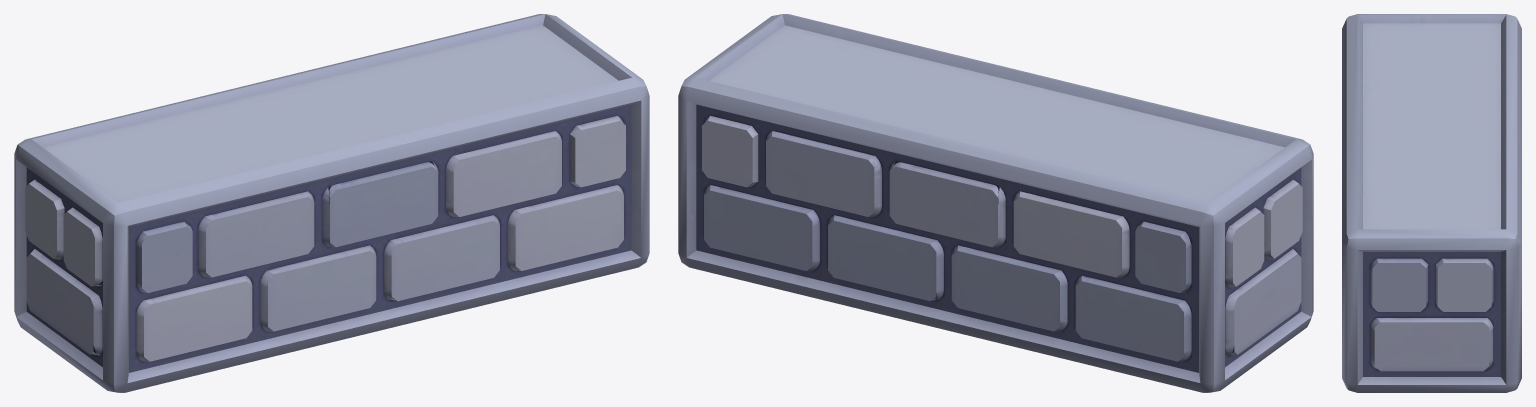
Rendered from tas3.glb.
The picture shows the model from 3 angles, left to right: view 1: azimuth 30°, elevation 25°; view 2: azimuth 150°, elevation 25°; view 3: azimuth 270°, elevation 25°; orthographic projection. The views are drawn at different scales.
Visible parts, largest first — view 1: tas3; view 2: tas3; view 3: tas3.
Part boxes in pixels (x1,y1,x2,y2): tas3: [14, 14, 649, 392]; tas3: [678, 14, 1313, 392]; tas3: [1342, 14, 1521, 392].
Bounding box in the file's own units: 4.6 × 1.53 × 1.53.
1 material, 1 textured.
